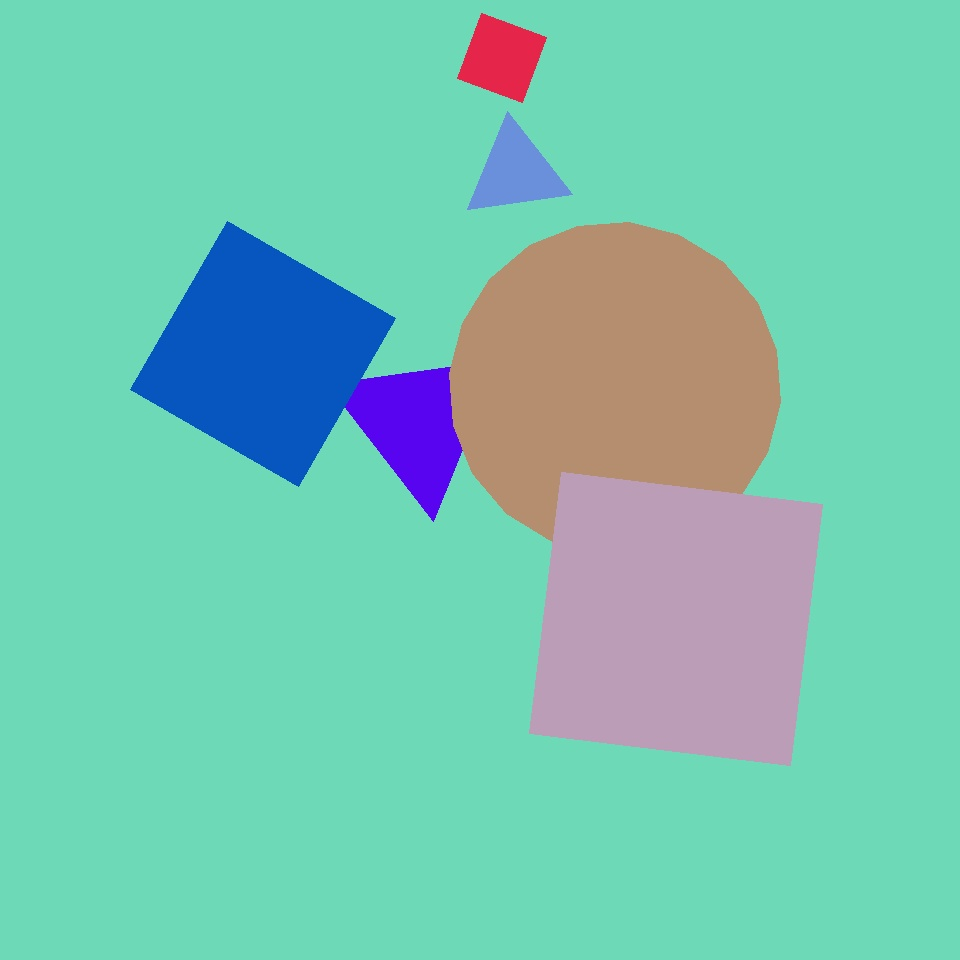circle: (334, 342, 506, 502), (464, 123, 568, 221)
square: (530, 472, 822, 766), (131, 222, 396, 487), (458, 13, 546, 103)
triangle: (450, 222, 780, 554)
